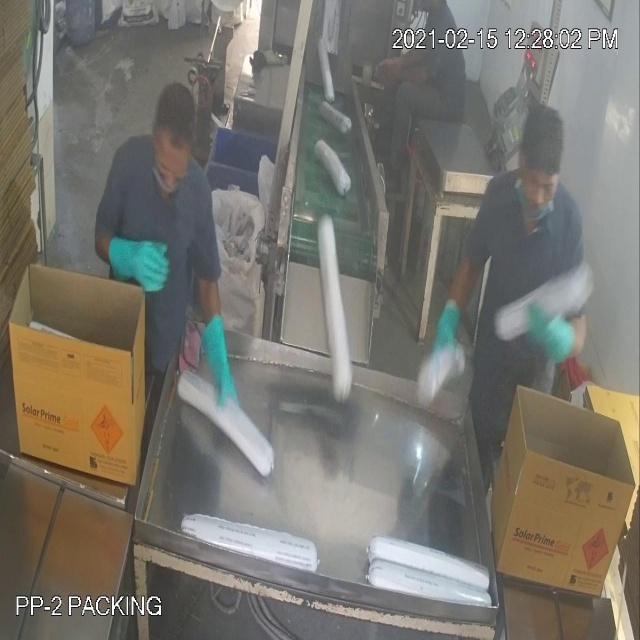Guantes: (178, 296, 244, 419), (518, 294, 586, 388), (102, 224, 178, 308), (415, 285, 476, 381)
